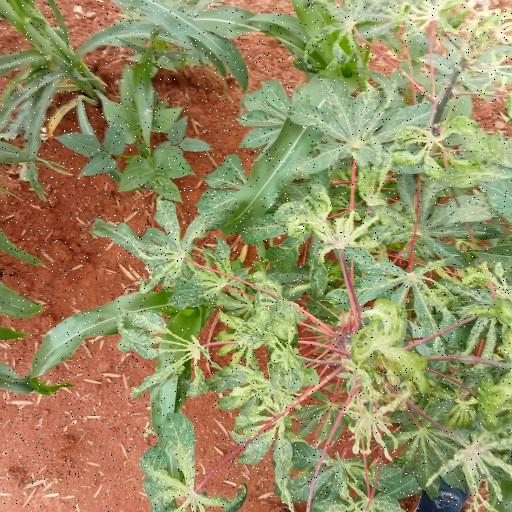Cassava_Mosaic: (293, 74, 428, 171), (146, 410, 238, 512), (113, 309, 208, 403), (144, 198, 206, 278)
